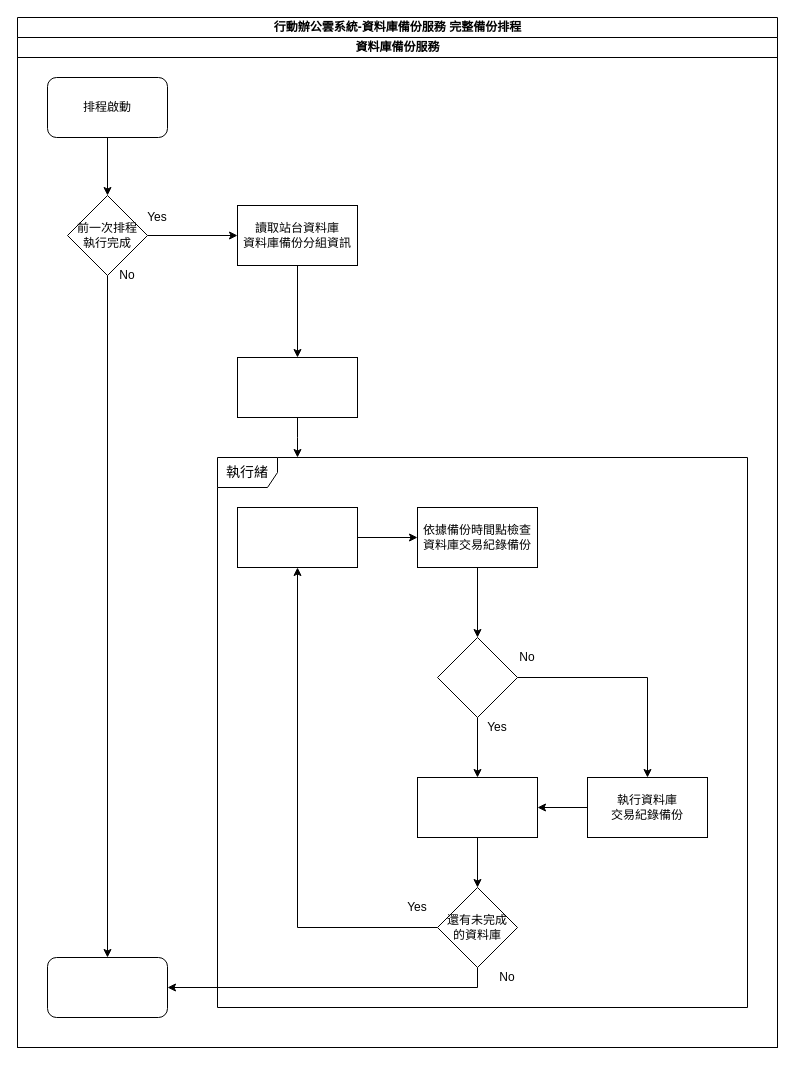
This 795x1065 diagram has some shape labels left out. The centre of each missing label's shape, as x and y in pixels:
"依據分組數量 啟用執行緒" goes at pixel 297 387.
"執行完整資料庫備份" goes at pixel 477 807.
"執行完畢" goes at pixel 107 987.
"執行緒依據分組內 的資料庫逐一執行以下動作" goes at pixel 297 537.
"若備份檔案 已存在" goes at pixel 477 677.
